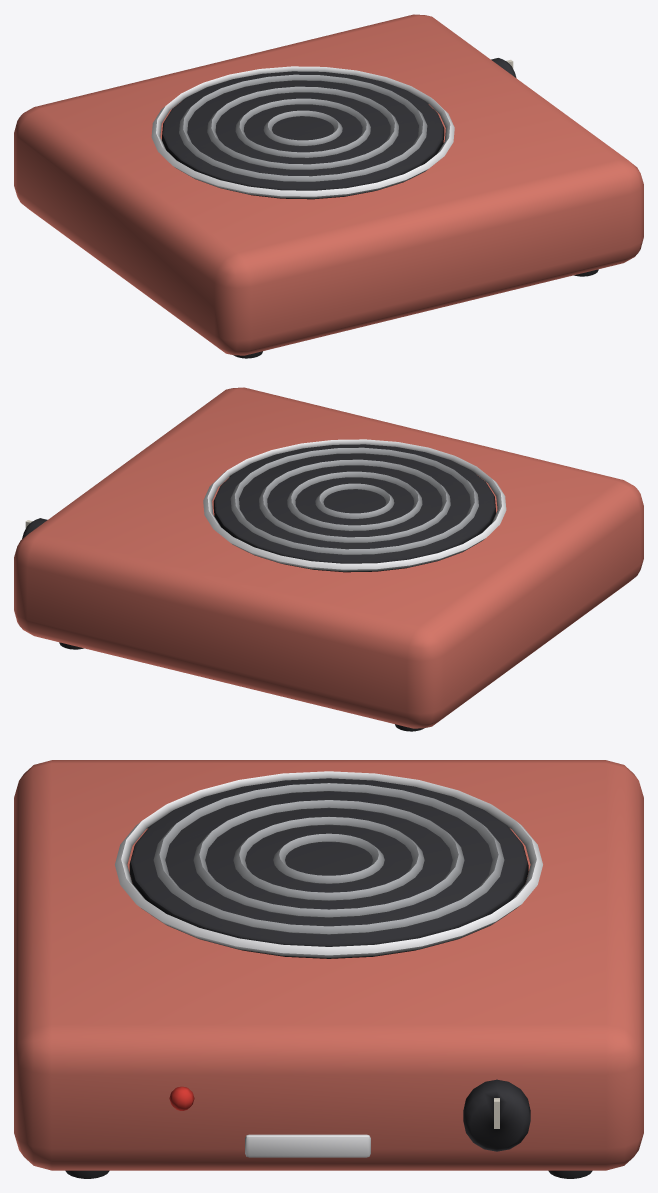
The model's file is nd_stove_1.glb.
The picture shows the model from 3 angles, top to bottom: view 1: azimuth 30°, elevation 25°; view 2: azimuth 150°, elevation 25°; view 3: azimuth 270°, elevation 25°; orthographic projection. The views are drawn at different scales.
Parts seen in each view (by area): view 1: PART; view 2: PART; view 3: PART, KNOB_1.
Boxes of the visible parts, box(x1,y1,x2,y2) form: PART: box(14, 14, 643, 358); PART: box(14, 387, 643, 731); PART: box(14, 760, 643, 1178); KNOB_1: box(463, 1079, 530, 1151).
Bounding box in the file's own units: 0.353 × 0.0963 × 0.3.
